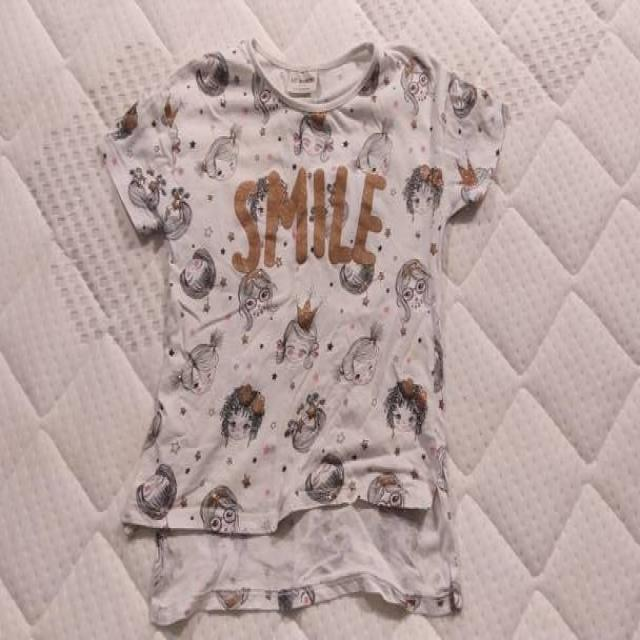Clothes -Biodegradable-: (100, 35, 507, 624)
